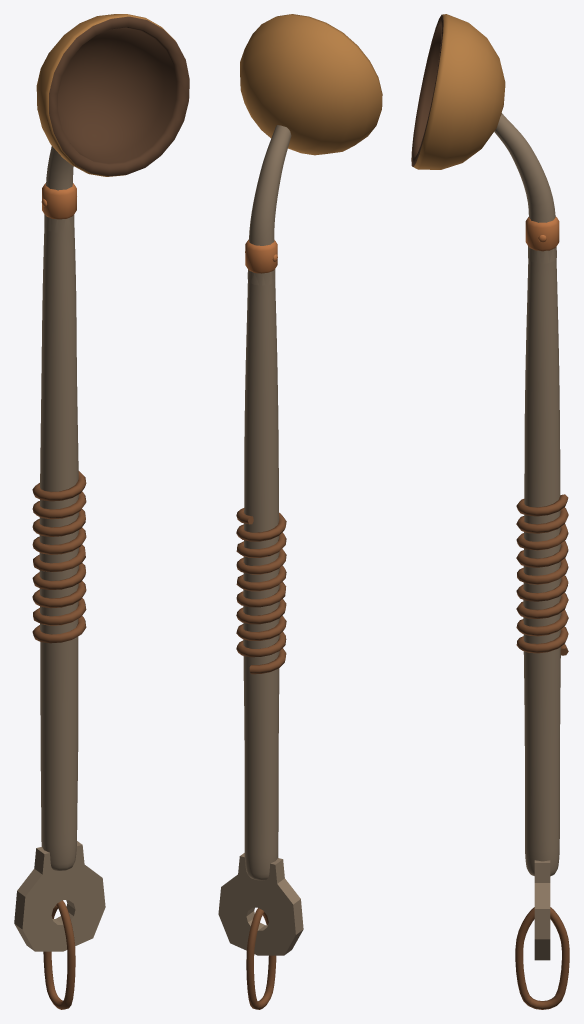
Rendered from tool_ladle.fbx.
The picture shows the model from 3 angles, left to right: view 1: azimuth 30°, elevation 25°; view 2: azimuth 150°, elevation 25°; view 3: azimuth 270°, elevation 25°; orthographic projection. The views are drawn at different scales.
Visible parts, largest first — view 1: Tool_Ladle_Handle, Tool_Ladle_Bowl, Tool_Ladle_Leather, Tool_Ladle_Band; view 2: Tool_Ladle_Handle, Tool_Ladle_Bowl, Tool_Ladle_Leather, Tool_Ladle_Band; view 3: Tool_Ladle_Handle, Tool_Ladle_Bowl, Tool_Ladle_Leather, Tool_Ladle_Band.
Part boxes in pixels (left/top/right/bottom): Tool_Ladle_Handle: left=14, top=146, right=105, bottom=951; Tool_Ladle_Bowl: left=36, top=14, right=189, bottom=176; Tool_Ladle_Leather: left=32, top=471, right=86, bottom=1009; Tool_Ladle_Band: left=41, top=183, right=76, bottom=219; Tool_Ladle_Handle: left=218, top=125, right=303, bottom=955; Tool_Ladle_Bowl: left=240, top=14, right=382, bottom=155; Tool_Ladle_Leather: left=236, top=508, right=286, bottom=1009; Tool_Ladle_Band: left=245, top=239, right=277, bottom=273; Tool_Ladle_Handle: left=494, top=113, right=561, bottom=960; Tool_Ladle_Bowl: left=411, top=14, right=505, bottom=169; Tool_Ladle_Leather: left=515, top=494, right=569, bottom=1009; Tool_Ladle_Band: left=525, top=216, right=559, bottom=251.
Size of the model in its own units: 15.02 by 103 by 14.91.
